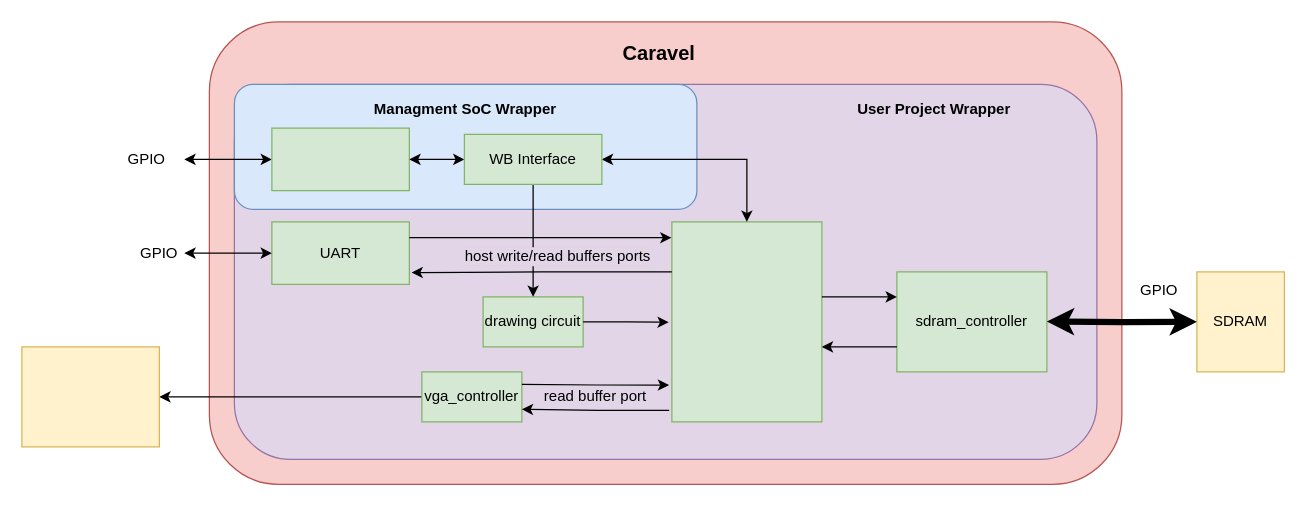
The diagram is 1306 pixels wide and 506 high, and some of its shapes have lost their labels. Here are the shapes that lost their labels. From the top down, the centre of each, then its label:
At point (340, 159): "Risc-V".
At point (746, 321): "memory_system".
At point (90, 396): "screen".
